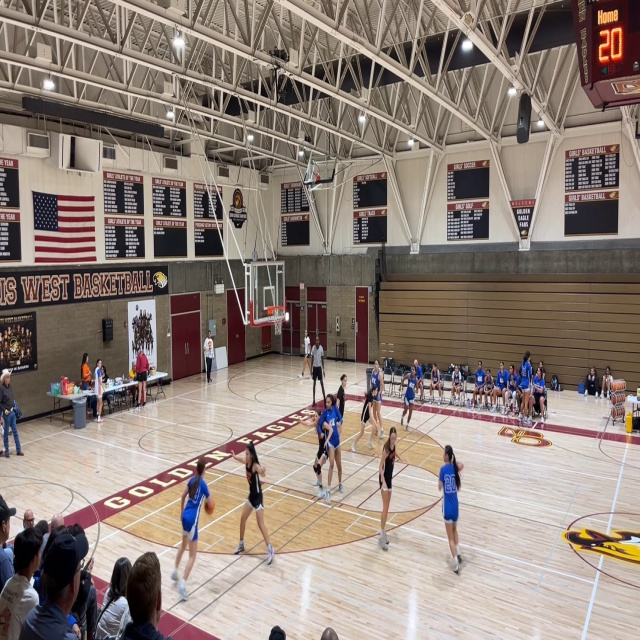Basketball: (204, 498, 215, 514)
